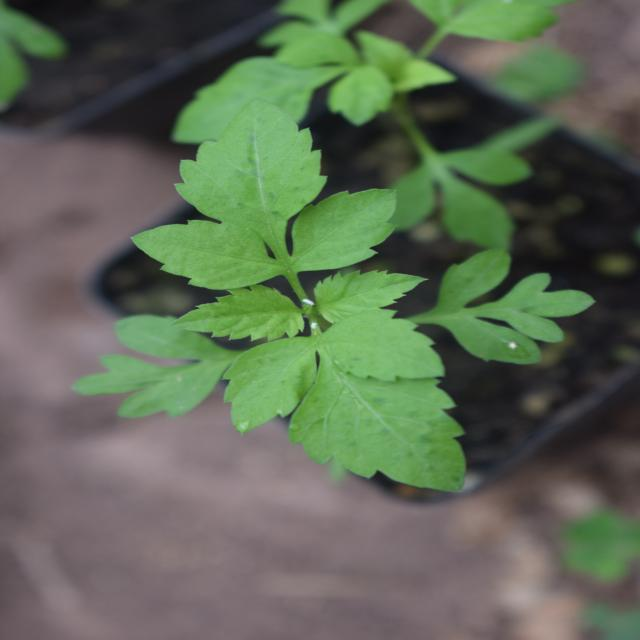Bidens pilosa: (160, 82, 522, 550)
